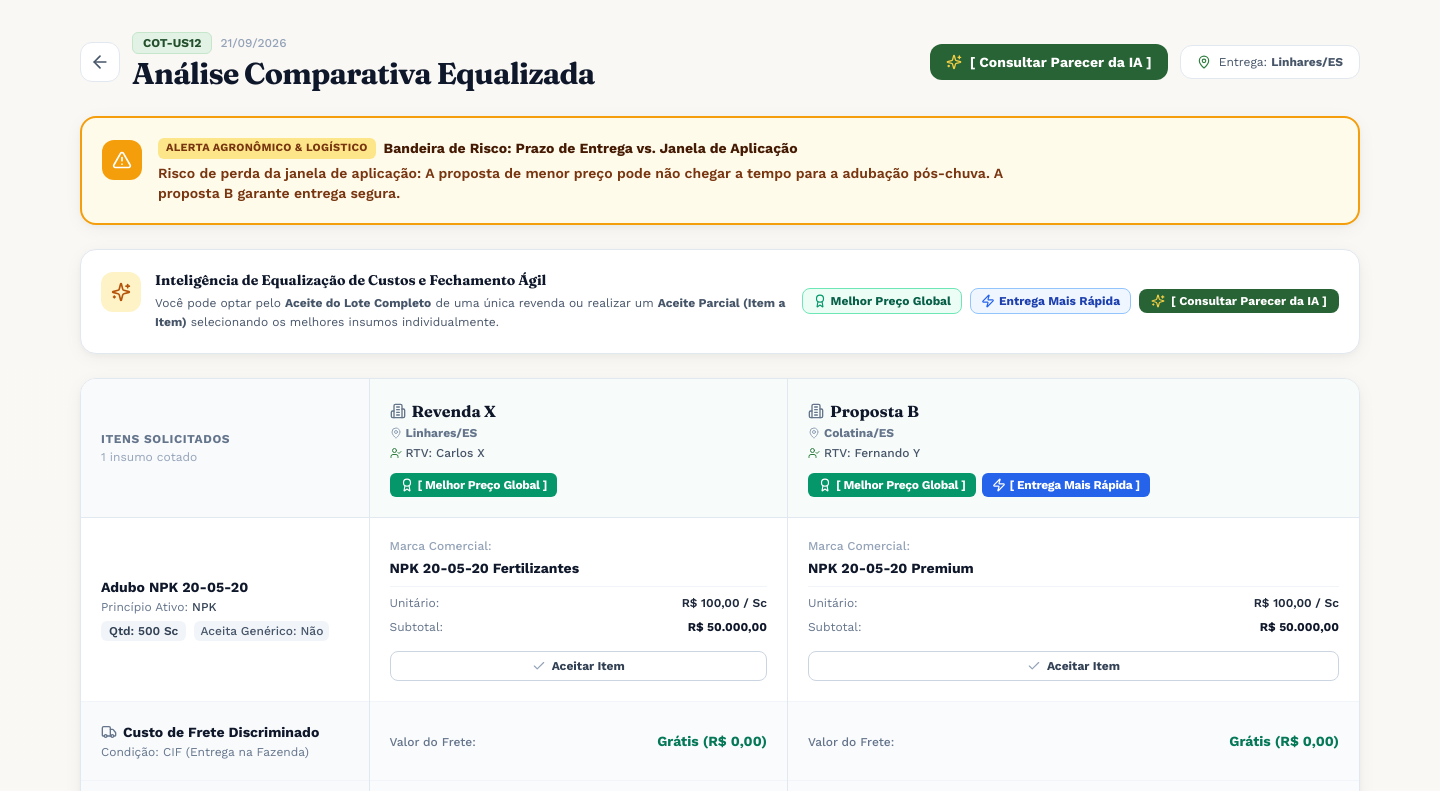
Scenario: US12 – Análise Preditiva de Janela de Compra e Modalidade Financeira (QuotationComparativePage) › Cenário 1: Avaliação de Custo Financeiro (À Vista vs. Prazo Safra) › deve calcular parecer financeiro sob demanda caso financialOpinion inicial seja nulo
Click the button with test id "btn-consult-ai-opinion": [1049, 62] box [930,44,1168,80]
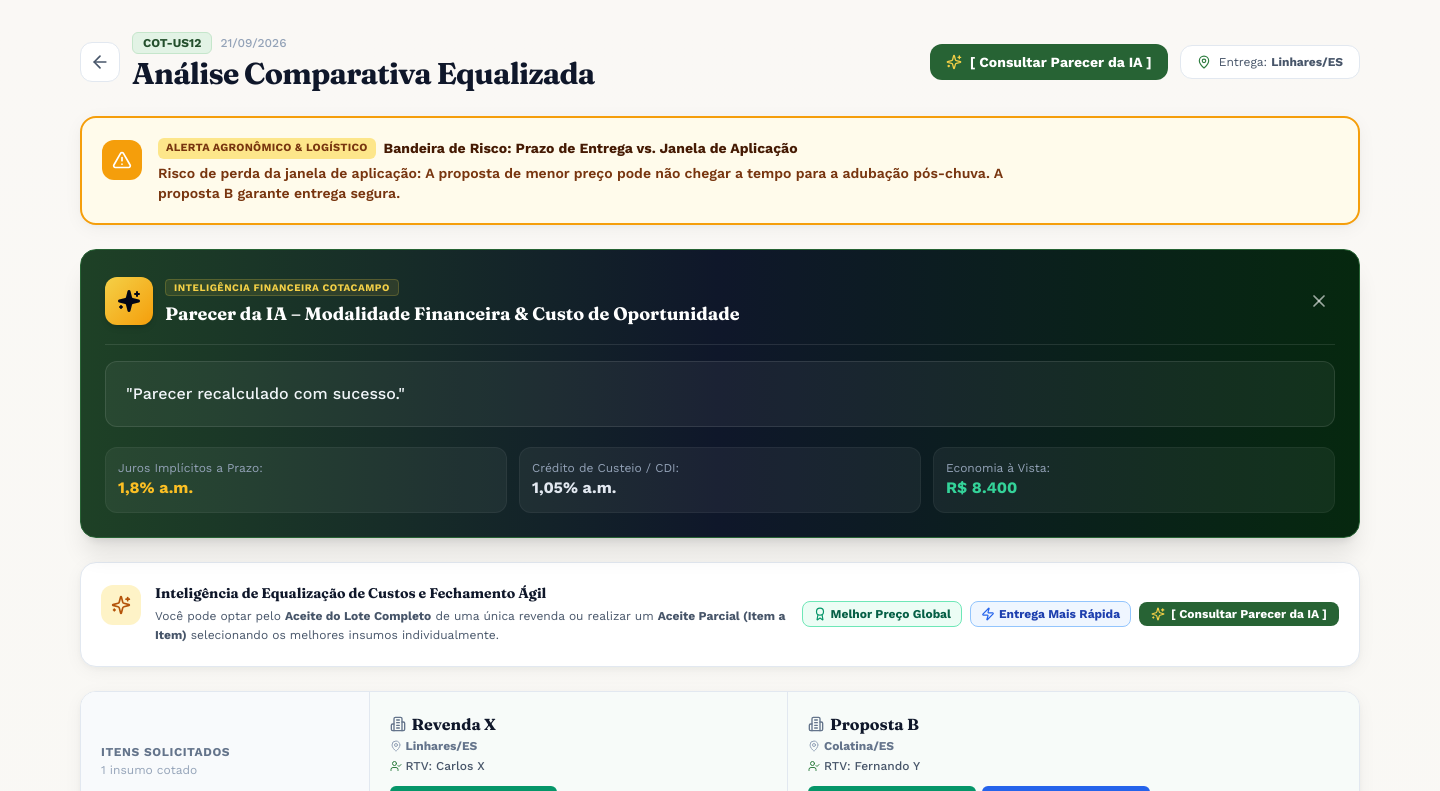
Expected: the element with test id "ai-financial-opinion-card" shows "Parecer recalculado com sucesso.", [133,384,398,402]
